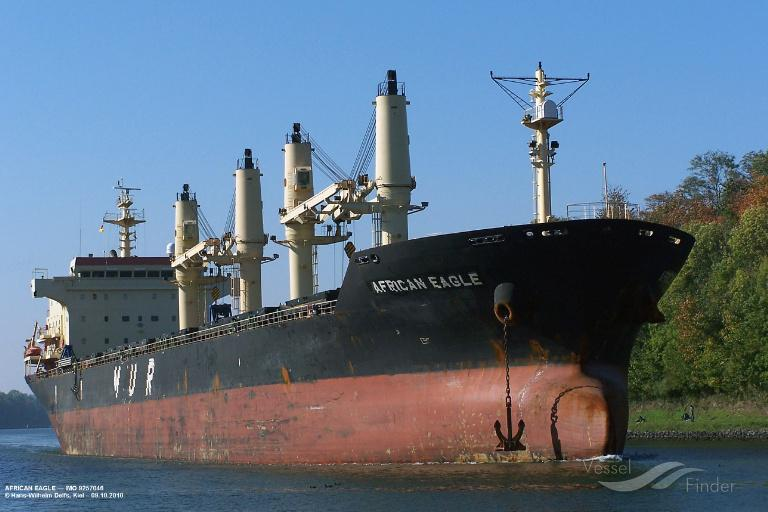OCR: (368, 268, 490, 296), (114, 358, 162, 400)
